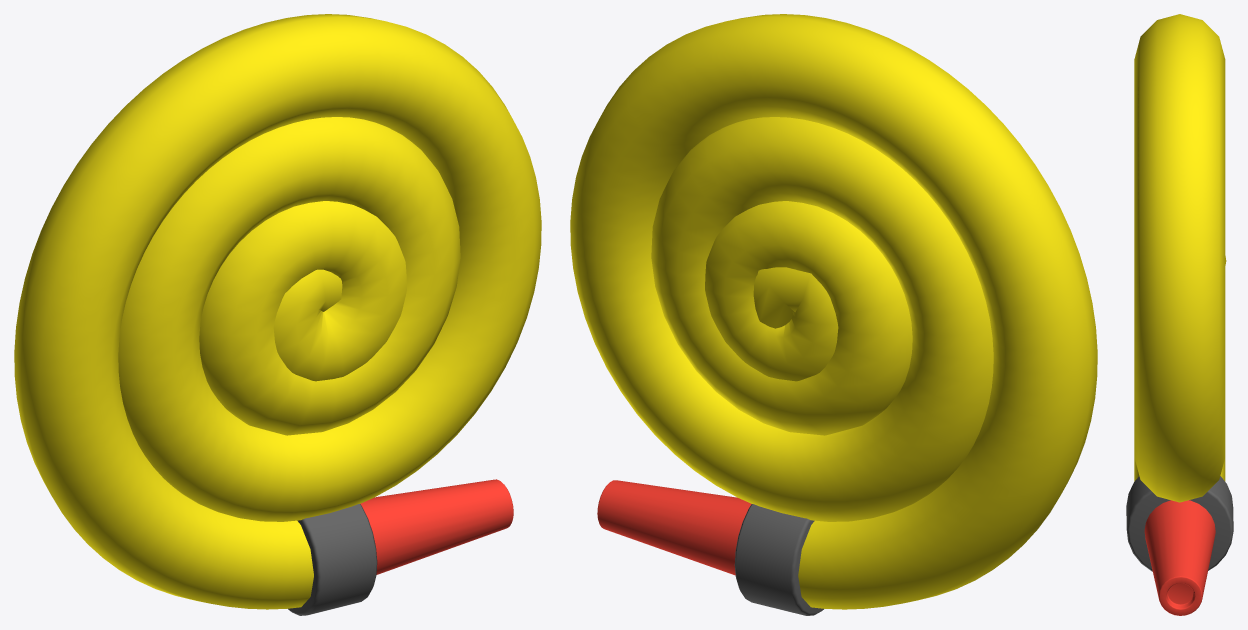
Rendered from Public_11_Fire_Hose_2.glb.
3 renders of one model, left to right at view 1: azimuth 30°, elevation 25°; view 2: azimuth 150°, elevation 25°; view 3: azimuth 270°, elevation 25°, orthographic. The views are drawn at different scales.
Visible parts, largest first — view 1: Public_11_Fire_Hose_2; view 2: Public_11_Fire_Hose_2; view 3: Public_11_Fire_Hose_2.
Boxes of the visible parts, box(x1,y1,x2,y2) form: Public_11_Fire_Hose_2: box(14, 14, 541, 615); Public_11_Fire_Hose_2: box(570, 14, 1097, 615); Public_11_Fire_Hose_2: box(1126, 14, 1233, 615).
Bounding box in the file's own units: 1.64 × 1.8 × 0.339.
Materials: 1 (1 with a texture image).
